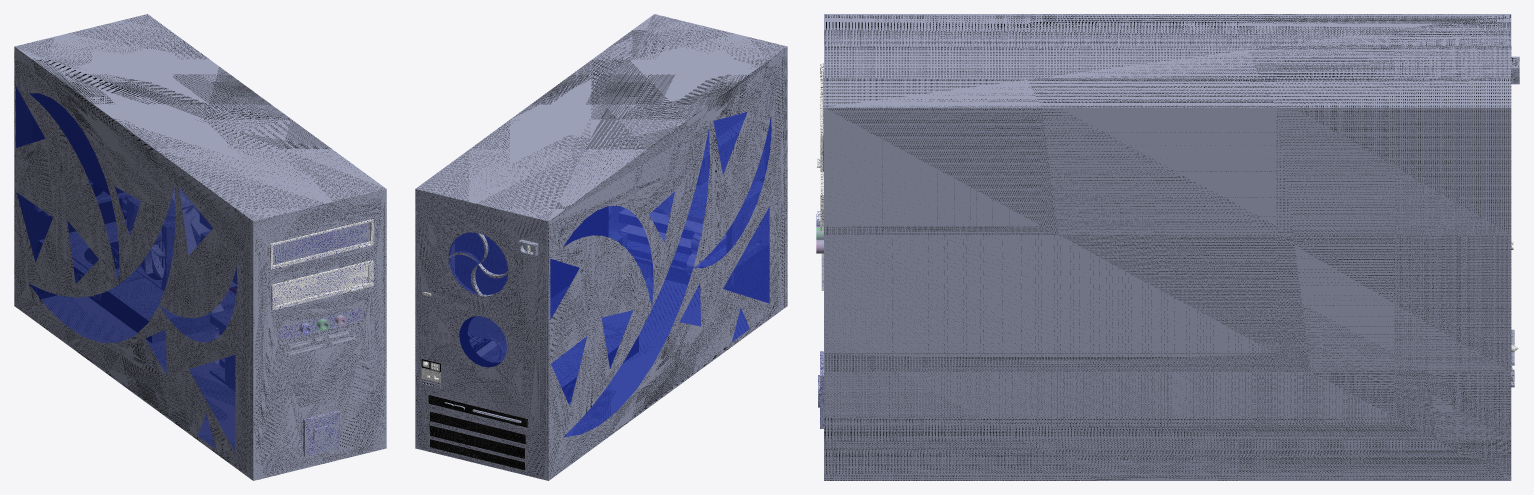
The model's file is compooter.fbx.
The picture shows the model from 3 angles, left to right: view 1: azimuth 30°, elevation 25°; view 2: azimuth 150°, elevation 25°; view 3: azimuth 270°, elevation 25°; orthographic projection. The views are drawn at different scales.
Parts seen in each view (by area): view 1: Component_1_1; view 2: Component_1_1; view 3: Component_1_1.
Part boxes in pixels (box(x1,y1,x2,y2)): Component_1_1: box(14, 14, 386, 480); Component_1_1: box(415, 14, 787, 480); Component_1_1: box(816, 14, 1519, 480).
Bounding box in the file's own units: 210 × 391 × 667.
